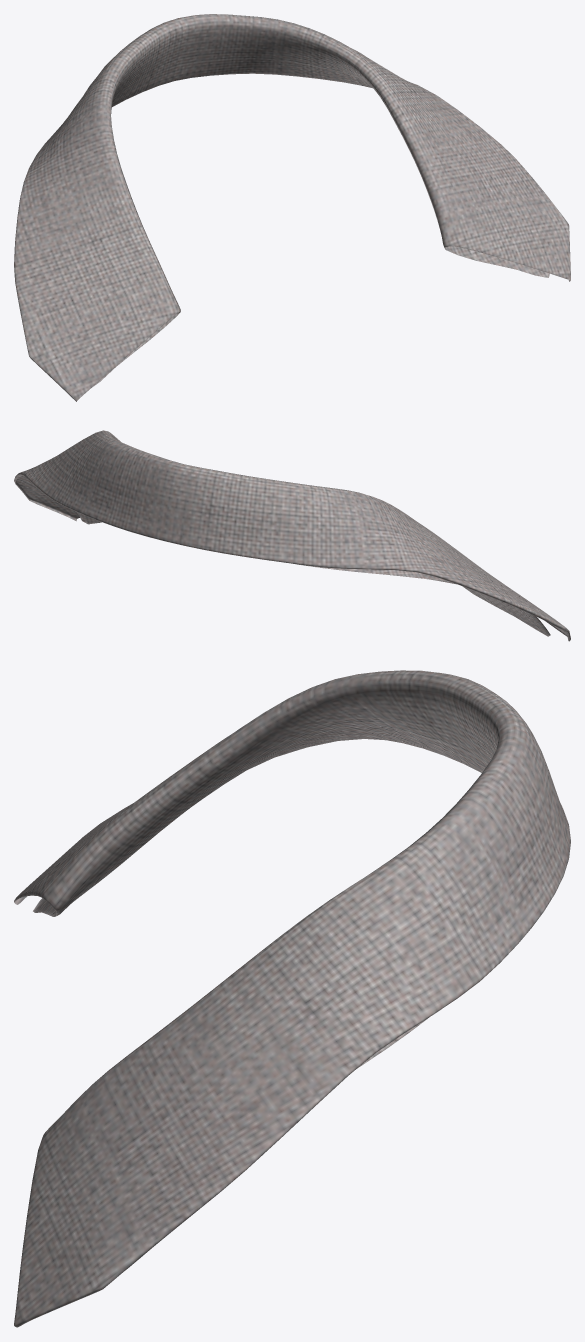
Rendered from notch_collar_wide.glb.
3 views of the same model, one above another, from view 1: azimuth 30°, elevation 25°; view 2: azimuth 150°, elevation 25°; view 3: azimuth 270°, elevation 25° (orthographic). The views are drawn at different scales.
Visible parts, largest first — view 1: notch_collar_wide1; view 2: notch_collar_wide1; view 3: notch_collar_wide1.
Boxes of the visible parts, <box> form: notch_collar_wide1: <box>14,14,570,401</box>; notch_collar_wide1: <box>14,430,570,641</box>; notch_collar_wide1: <box>14,670,570,1327</box>.
Size of the model in its own units: 0.0391 by 0.0152 by 0.0199.
Materials: 1 (1 with a texture image).
